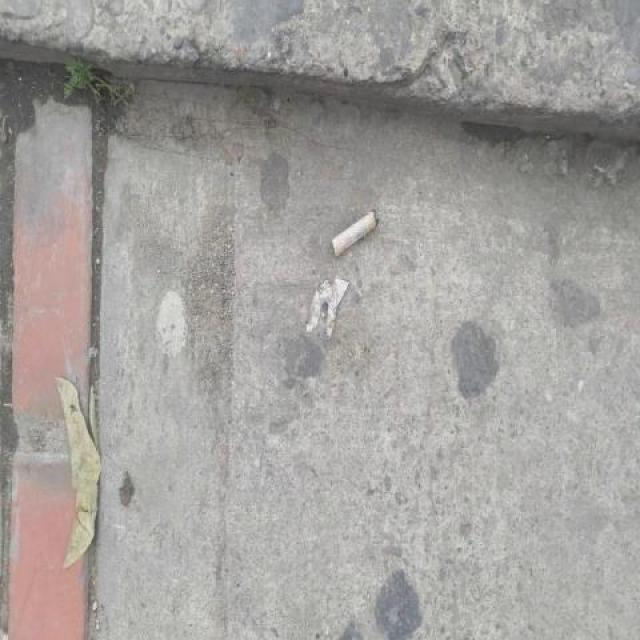non-organic waste: (328, 205, 385, 264)
